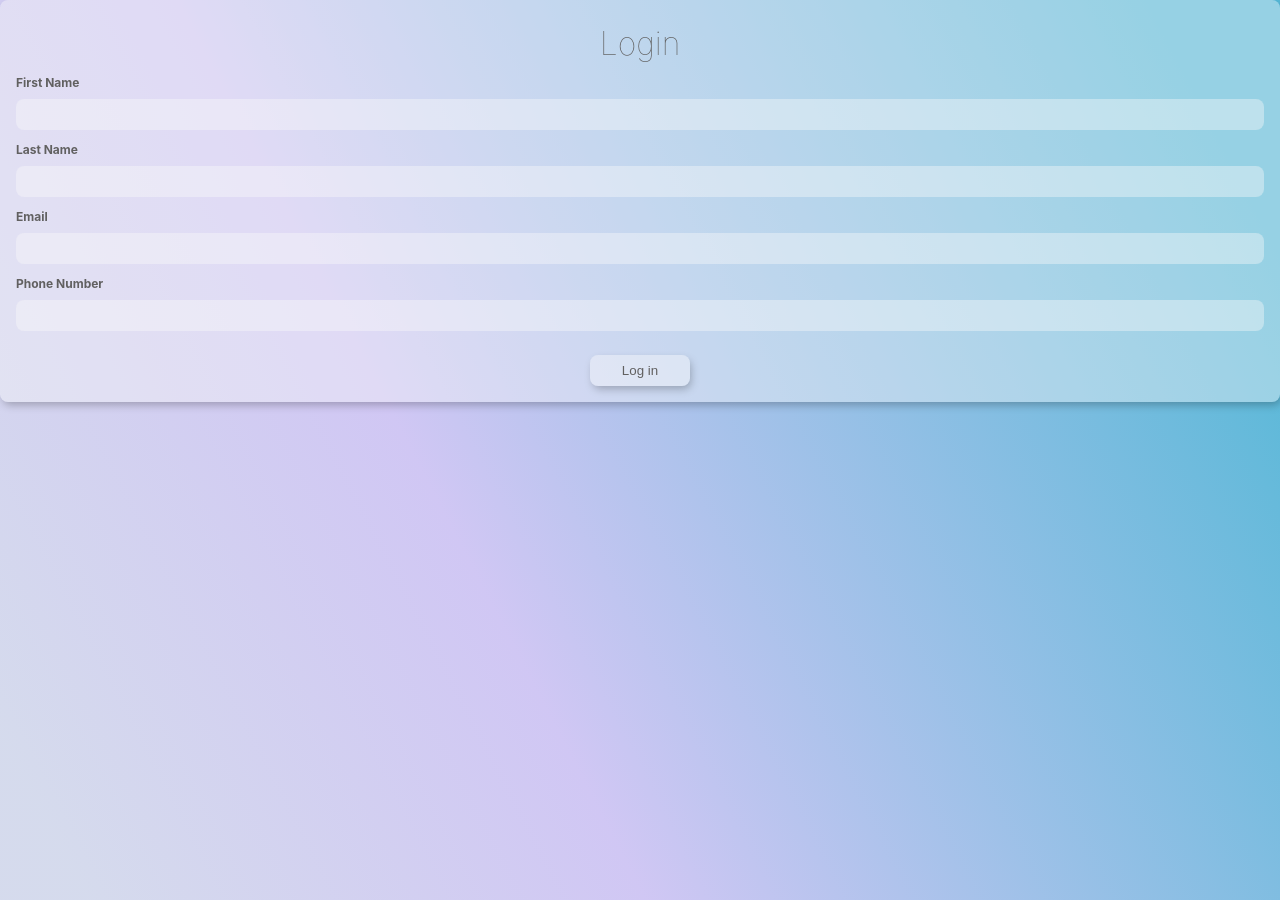
Test: Login › should render an error if the last name is missing
This screenshot has width=1280, height=900.
Step 1. Type "John" into the field with test id "first-name-input" → (640, 114), box [16, 99, 1264, 130]
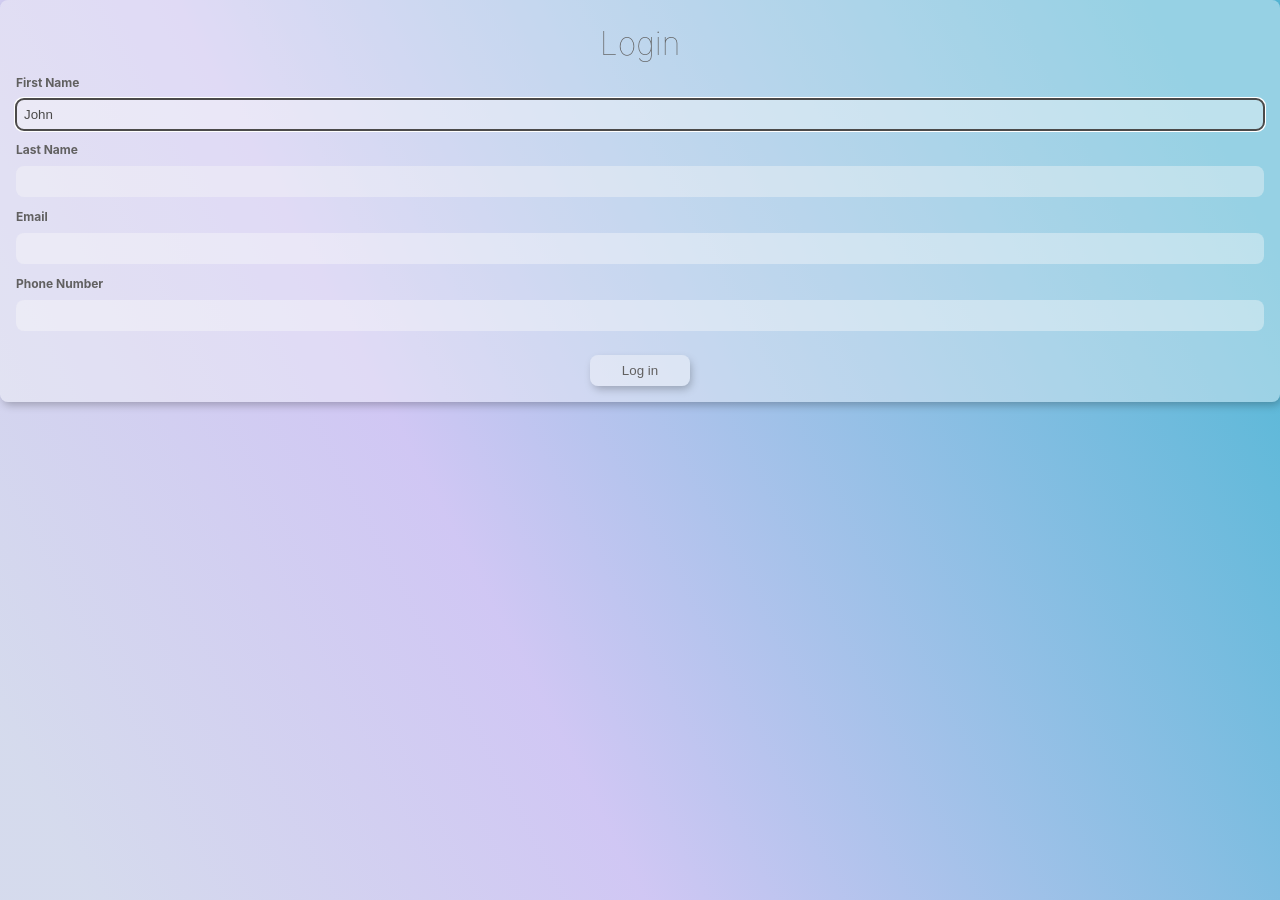
Step 2. Type "john@doe.com" into the field with test id "email-input" → (640, 248), box [16, 233, 1264, 264]
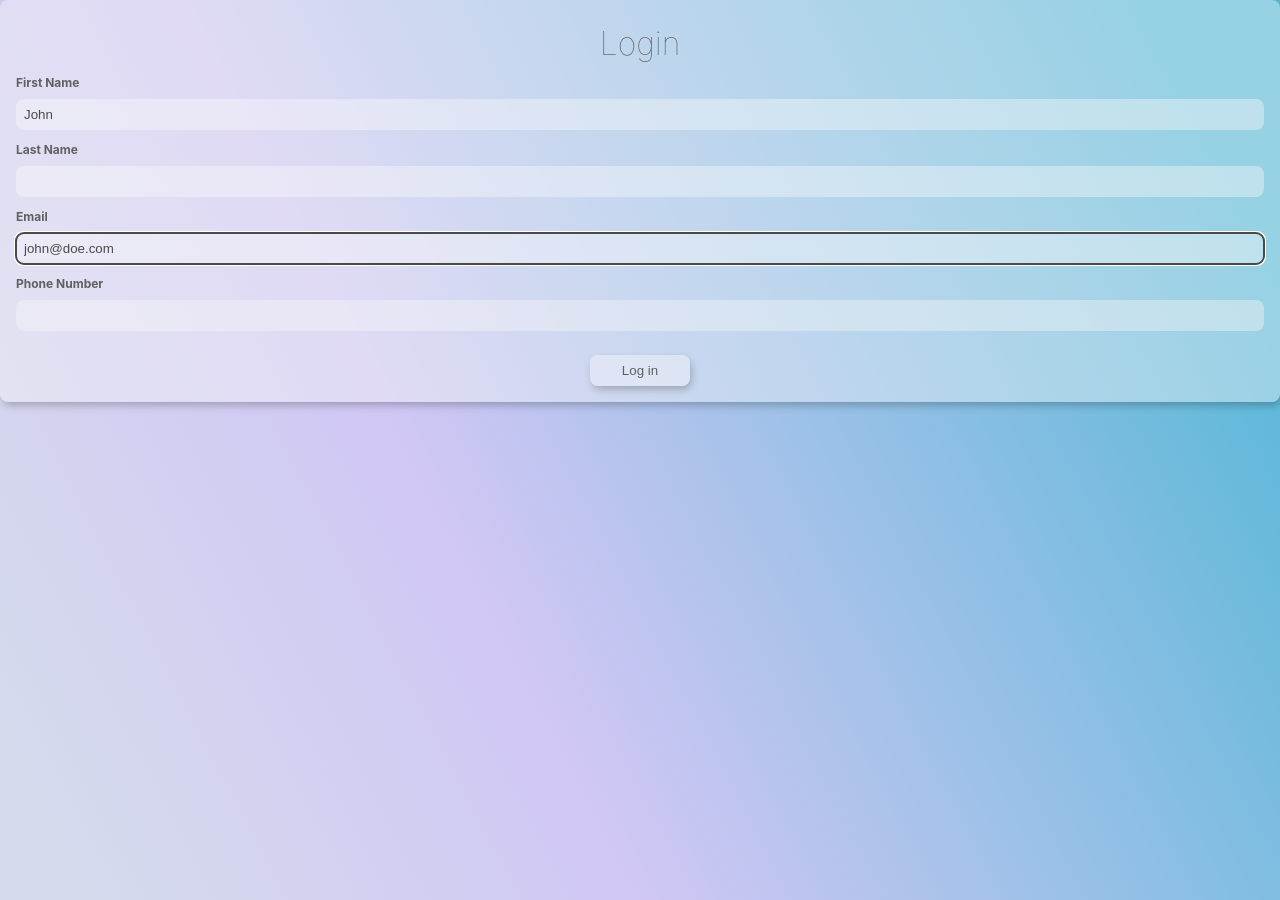
Step 3. Type "1234567890" into the field with test id "phone-number-input" → (640, 316), box [16, 300, 1264, 331]
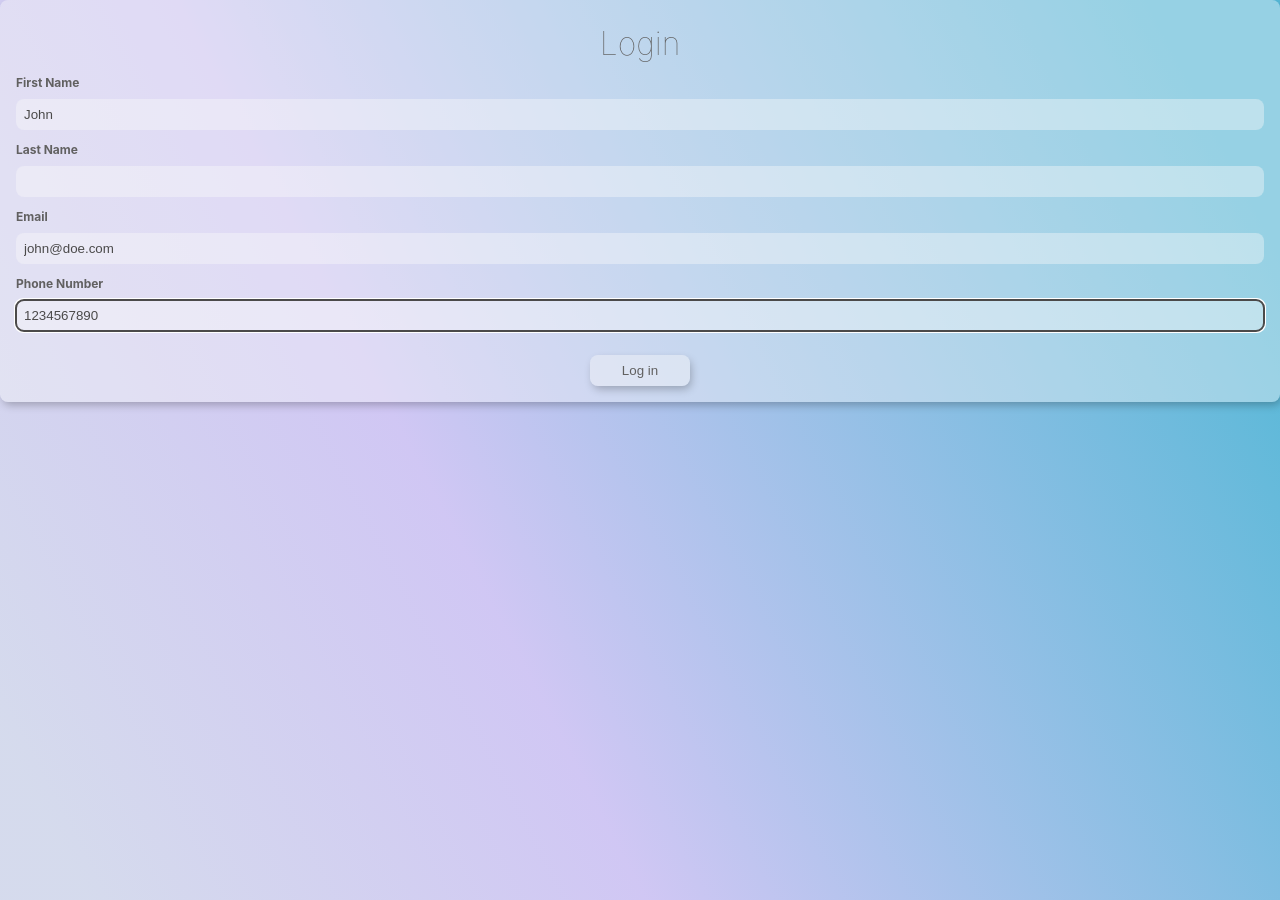
Step 4. Click the button with test id "submit-button" → (640, 370), box [590, 355, 690, 386]
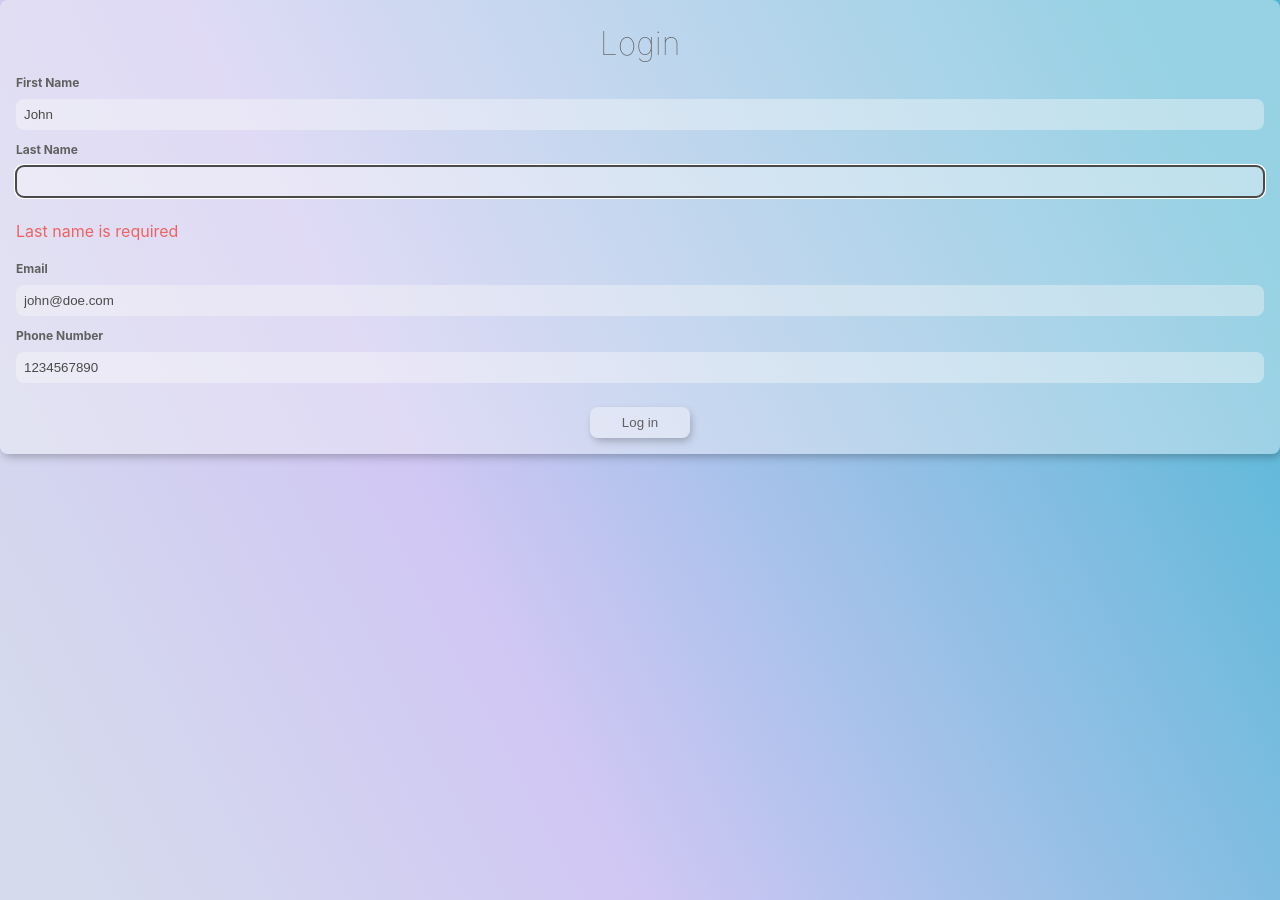
Result: the text "Last name is required" is shown at [16, 221, 178, 241]
